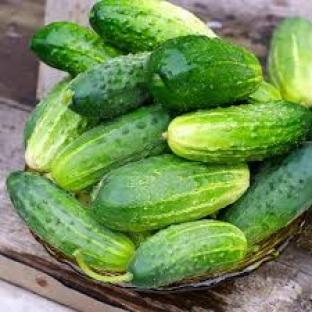Cucumber: (7, 172, 134, 271), (92, 154, 249, 231), (78, 221, 246, 288), (52, 106, 170, 191), (222, 143, 311, 246), (167, 102, 311, 163), (149, 35, 263, 112), (25, 86, 97, 171), (70, 53, 149, 119), (31, 23, 120, 76), (268, 17, 311, 108), (24, 78, 70, 148), (247, 81, 282, 102), (127, 232, 153, 248)
